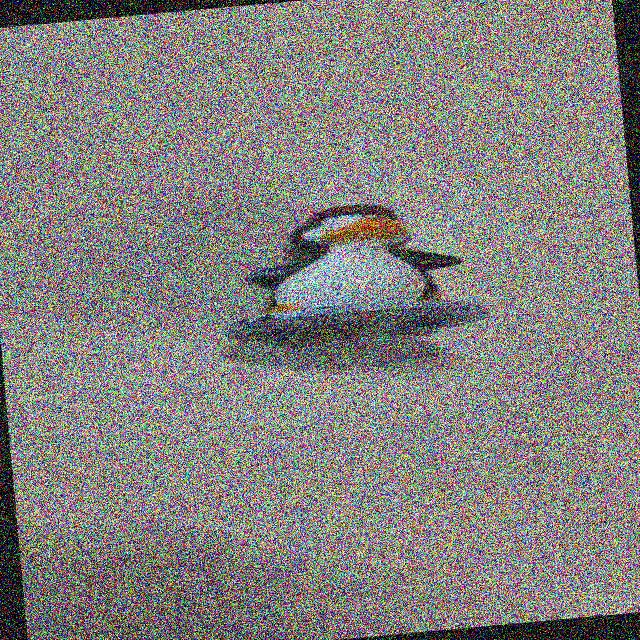Penguin: (225, 190, 482, 354)
